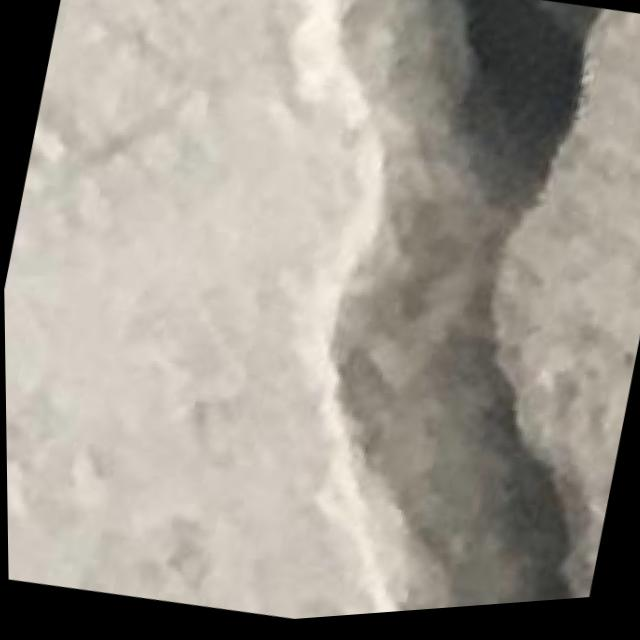Crack: (194, 0, 640, 629)
